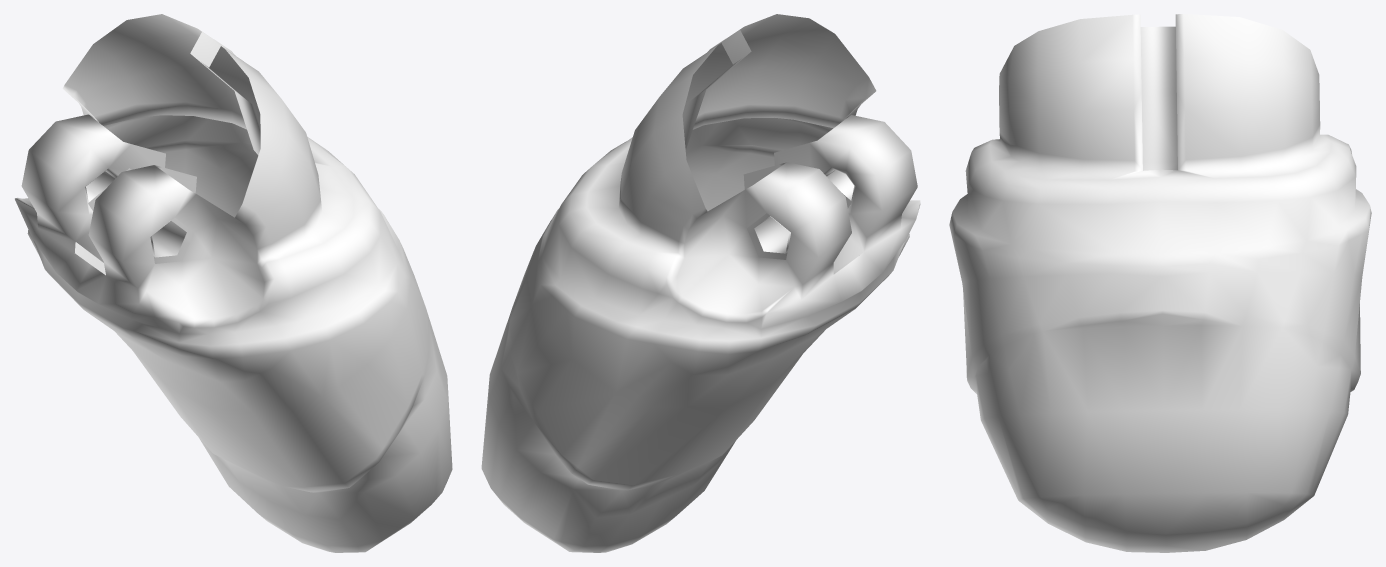
The model's file is LThumb2.dae.
3 renders of one model, left to right at view 1: azimuth 30°, elevation 25°; view 2: azimuth 150°, elevation 25°; view 3: azimuth 270°, elevation 25°, orthographic. The views are drawn at different scales.
Parts seen in each view (by area): view 1: LThumb2; view 2: LThumb2; view 3: LThumb2.
Boxes of the visible parts, x1=… form: LThumb2: x1=15, y1=14, x2=452, y2=552; LThumb2: x1=481, y1=14, x2=920, y2=552; LThumb2: x1=949, y1=14, x2=1371, y2=552.
Bounding box in the file's own units: 144 × 162 × 205.
1 material, 1 textured.
